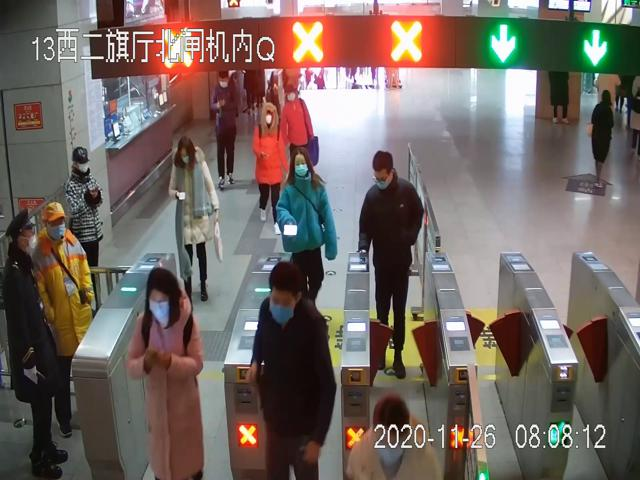person: (249, 263, 336, 480), (0, 208, 68, 476), (127, 266, 209, 480), (31, 202, 94, 443), (360, 151, 422, 380), (276, 146, 339, 300), (167, 137, 222, 308), (67, 146, 104, 314), (251, 101, 288, 236), (279, 84, 322, 170), (211, 72, 240, 191)
